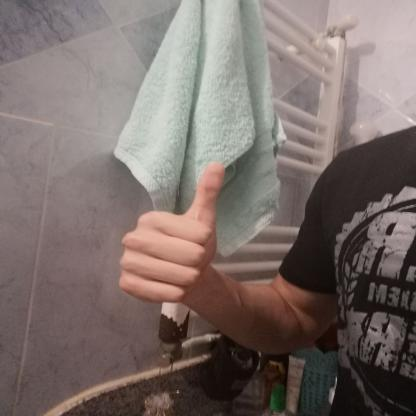ALIF: (108, 154, 242, 312)
